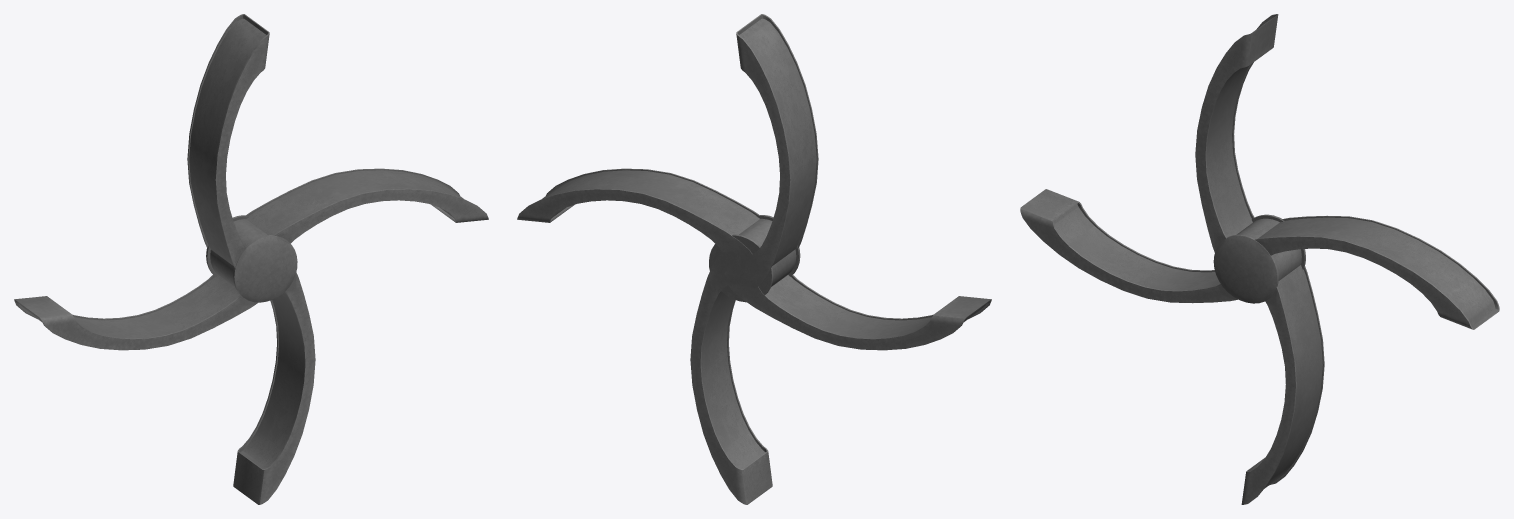
File: paddle.fbx
The picture shows the model from 3 angles, left to right: view 1: azimuth 30°, elevation 25°; view 2: azimuth 150°, elevation 25°; view 3: azimuth 330°, elevation 25°; orthographic projection.
Visible parts, largest first — view 1: paddle; view 2: paddle; view 3: paddle.
Boxes of the visible parts, left/top/right/bottom form: paddle: left=14, top=14, right=488, bottom=504; paddle: left=517, top=14, right=991, bottom=504; paddle: left=1020, top=14, right=1499, bottom=504.
Bounding box in the file's own units: 18.28 × 18.28 × 2.1.
